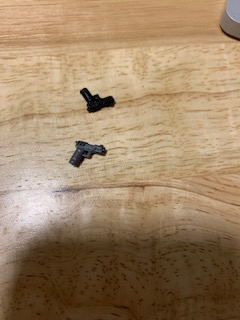pistol: (66, 137, 108, 167), (77, 87, 119, 111)
